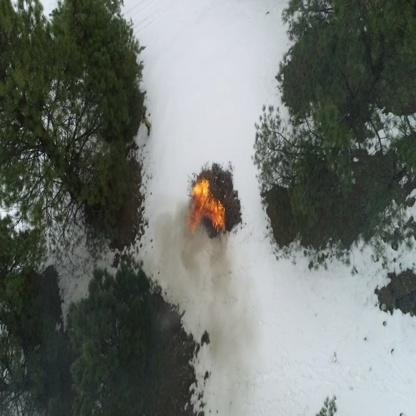Fire: (194, 180, 210, 222), (207, 200, 226, 232), (190, 215, 198, 232)
